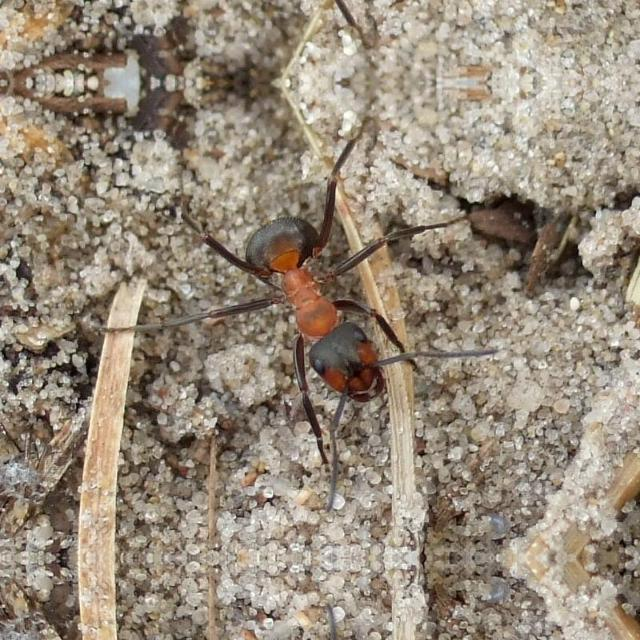Formica: (188, 182, 416, 406)
